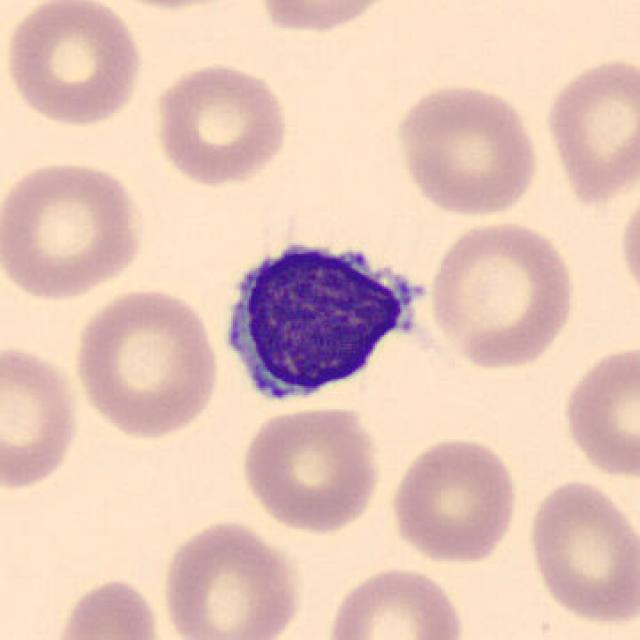Lymphocyte: (208, 224, 436, 414)
RBC: (423, 215, 580, 372), (69, 284, 224, 441), (0, 155, 149, 303), (389, 80, 544, 220), (236, 402, 384, 536), (2, 0, 148, 129), (150, 60, 292, 189), (158, 516, 305, 640), (386, 432, 522, 566), (523, 476, 638, 628), (540, 51, 638, 206), (0, 340, 84, 496), (322, 562, 469, 640), (558, 341, 638, 482), (50, 573, 167, 640), (251, 0, 404, 37), (615, 182, 640, 310)
